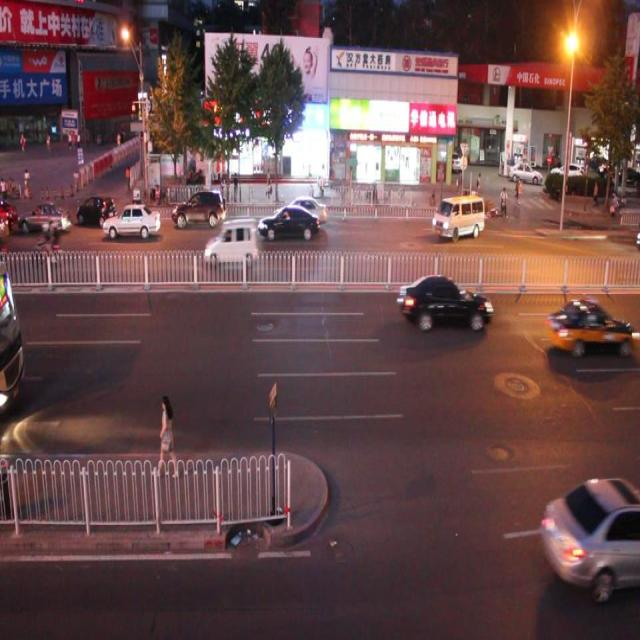car: (541, 474, 640, 590), (396, 269, 493, 331), (543, 296, 632, 362), (203, 220, 259, 266), (172, 186, 228, 230), (18, 197, 72, 238), (104, 202, 162, 239), (258, 205, 320, 239), (275, 191, 326, 226), (76, 194, 119, 226)
truck: (430, 194, 484, 236)
